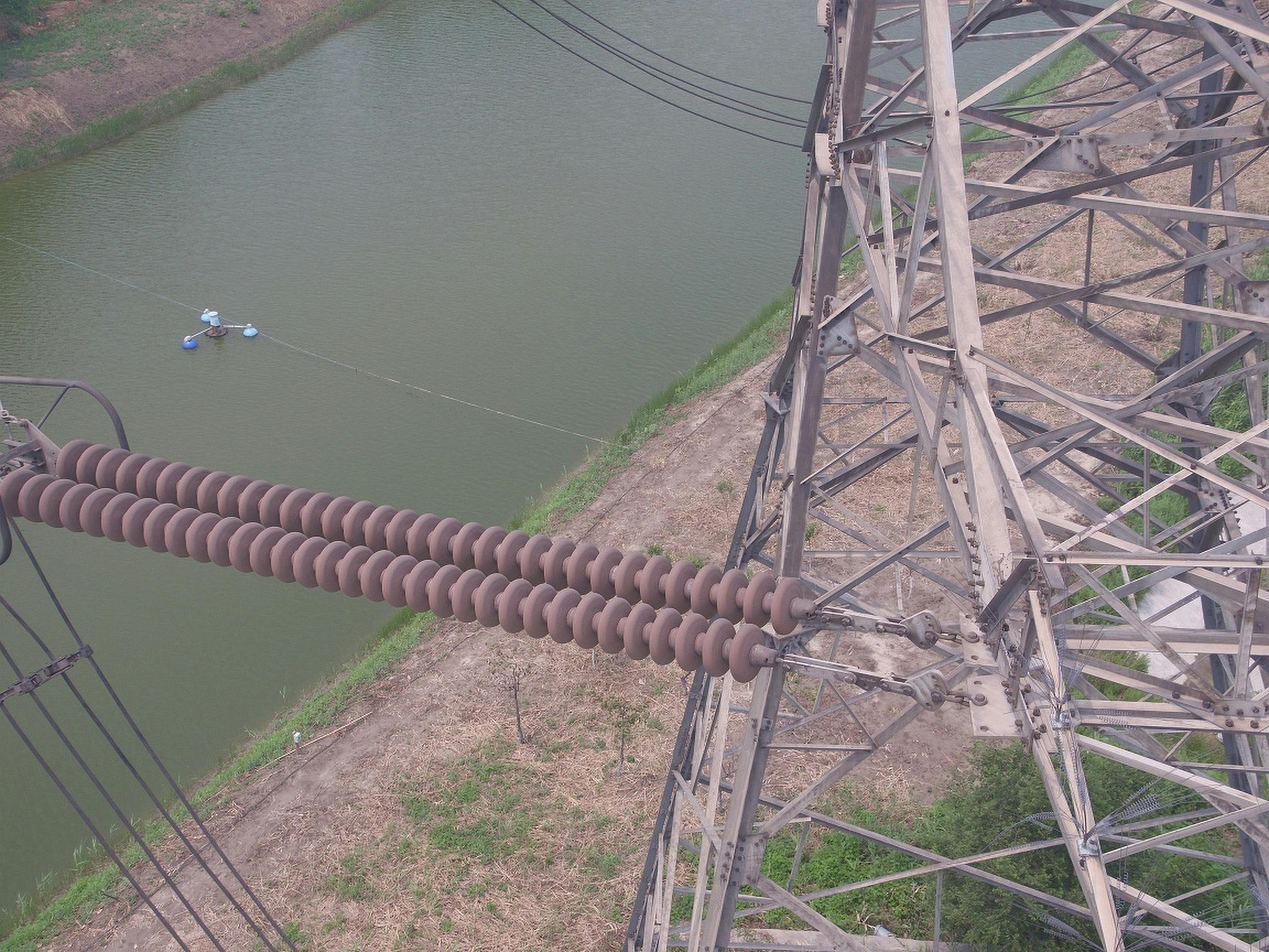insulator: (1, 433, 822, 687)
